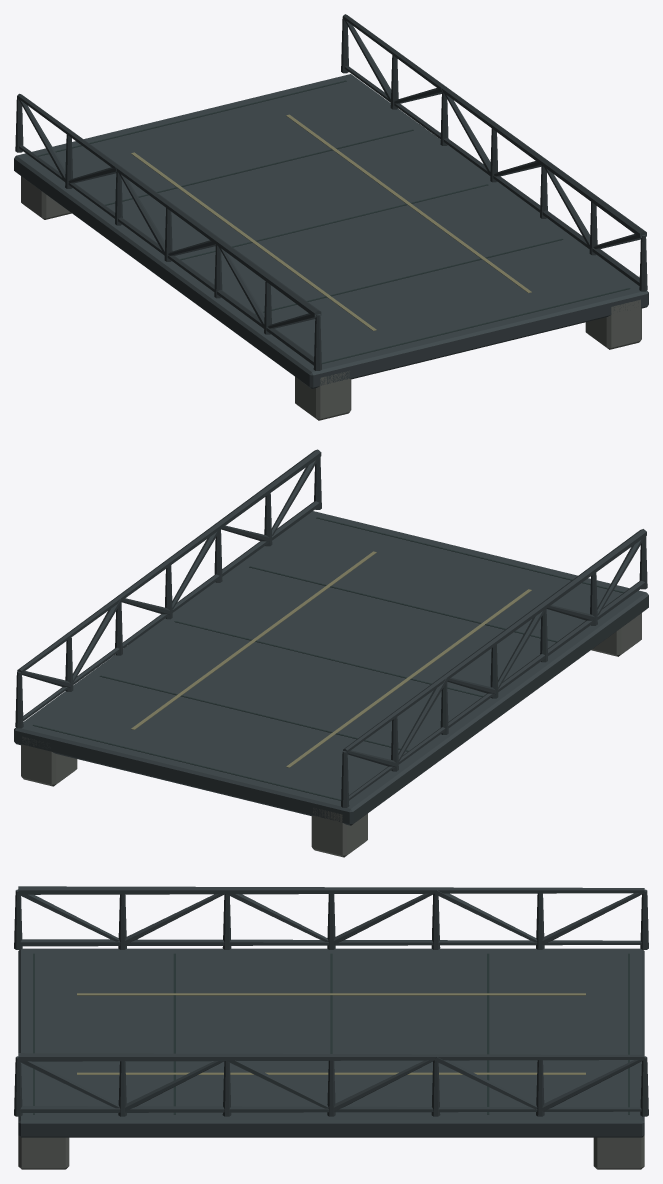
File: bridge_span.glb
3 renders of one model, top to bottom at view 1: azimuth 30°, elevation 25°; view 2: azimuth 150°, elevation 25°; view 3: azimuth 270°, elevation 25°, orthographic. The views are drawn at different scales.
Parts seen in each view (by area): view 1: bridge_span_mesh; view 2: bridge_span_mesh; view 3: bridge_span_mesh.
Part boxes in pixels (x1,y1,x2,y2): bridge_span_mesh: (14,14,648,420); bridge_span_mesh: (14,449,648,857); bridge_span_mesh: (14,886,648,1169).
Size of the model in its own units: 10.5 by 3.32 by 16.22.
